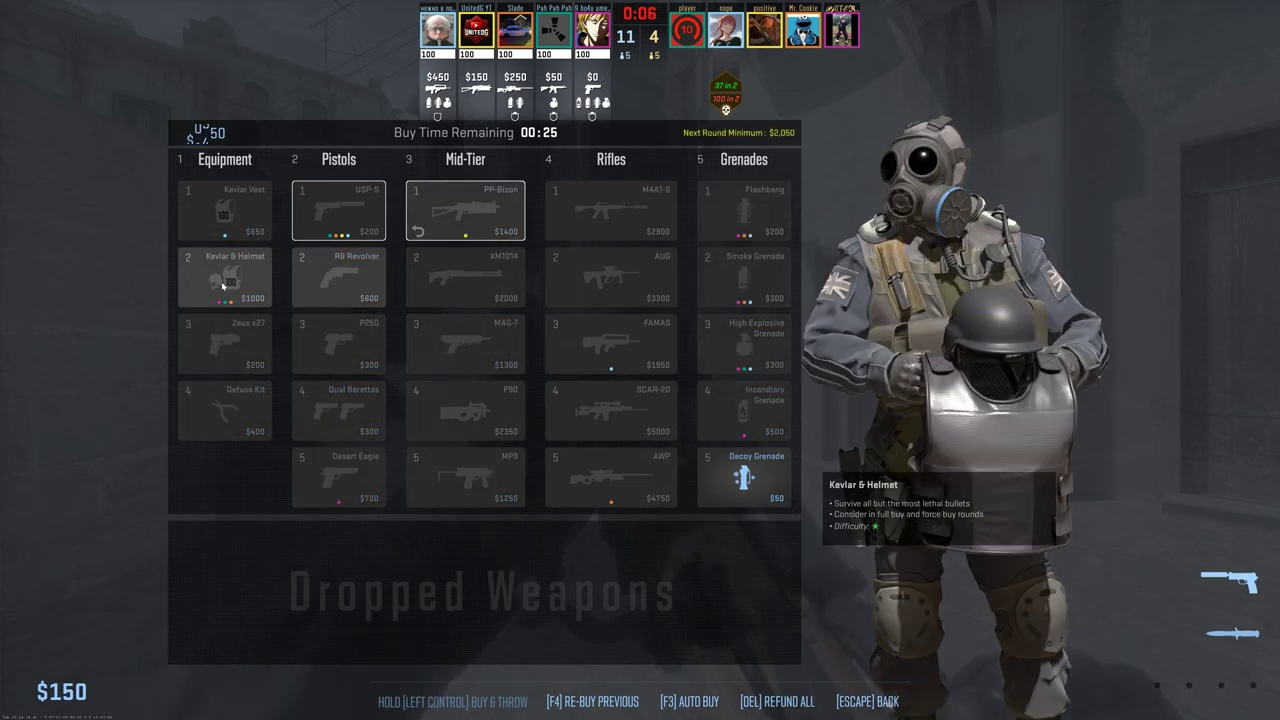CT: (850, 125, 1078, 719)
